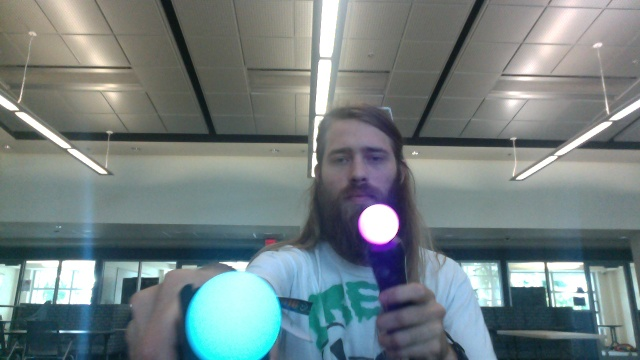wand: (188, 272, 281, 360), (359, 204, 399, 246)
